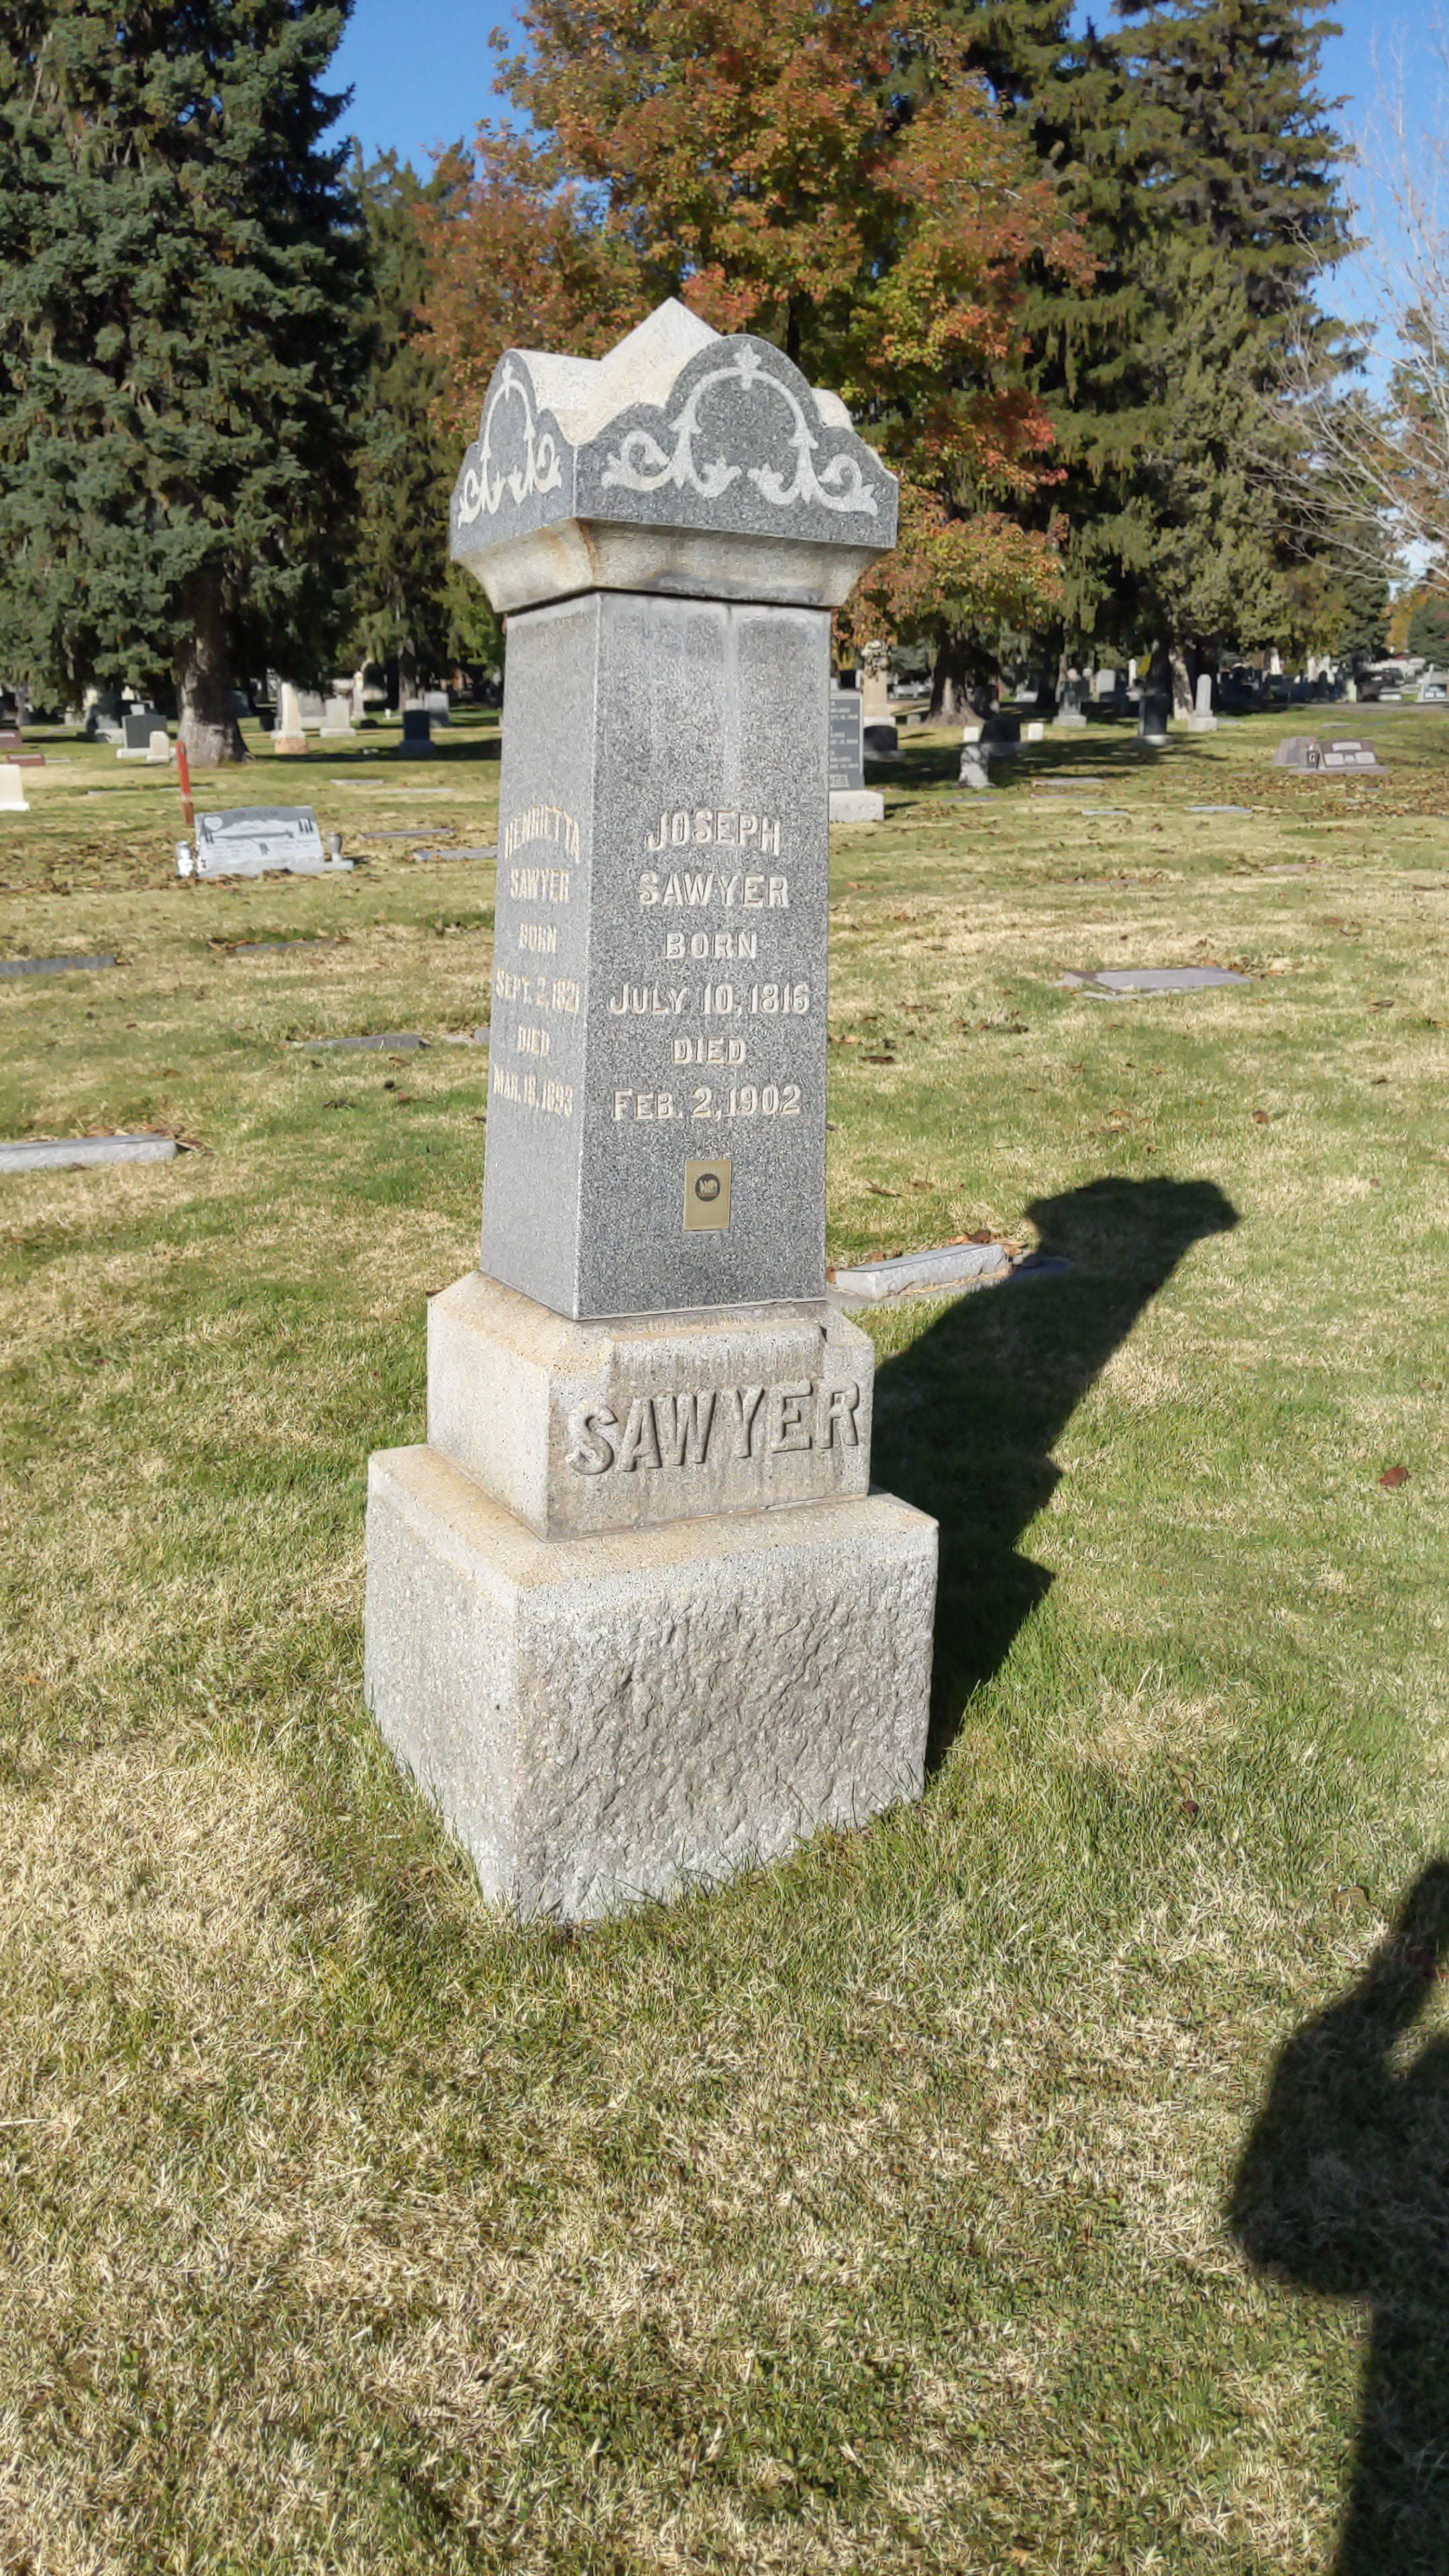obelisk: (448, 294, 893, 1529)
